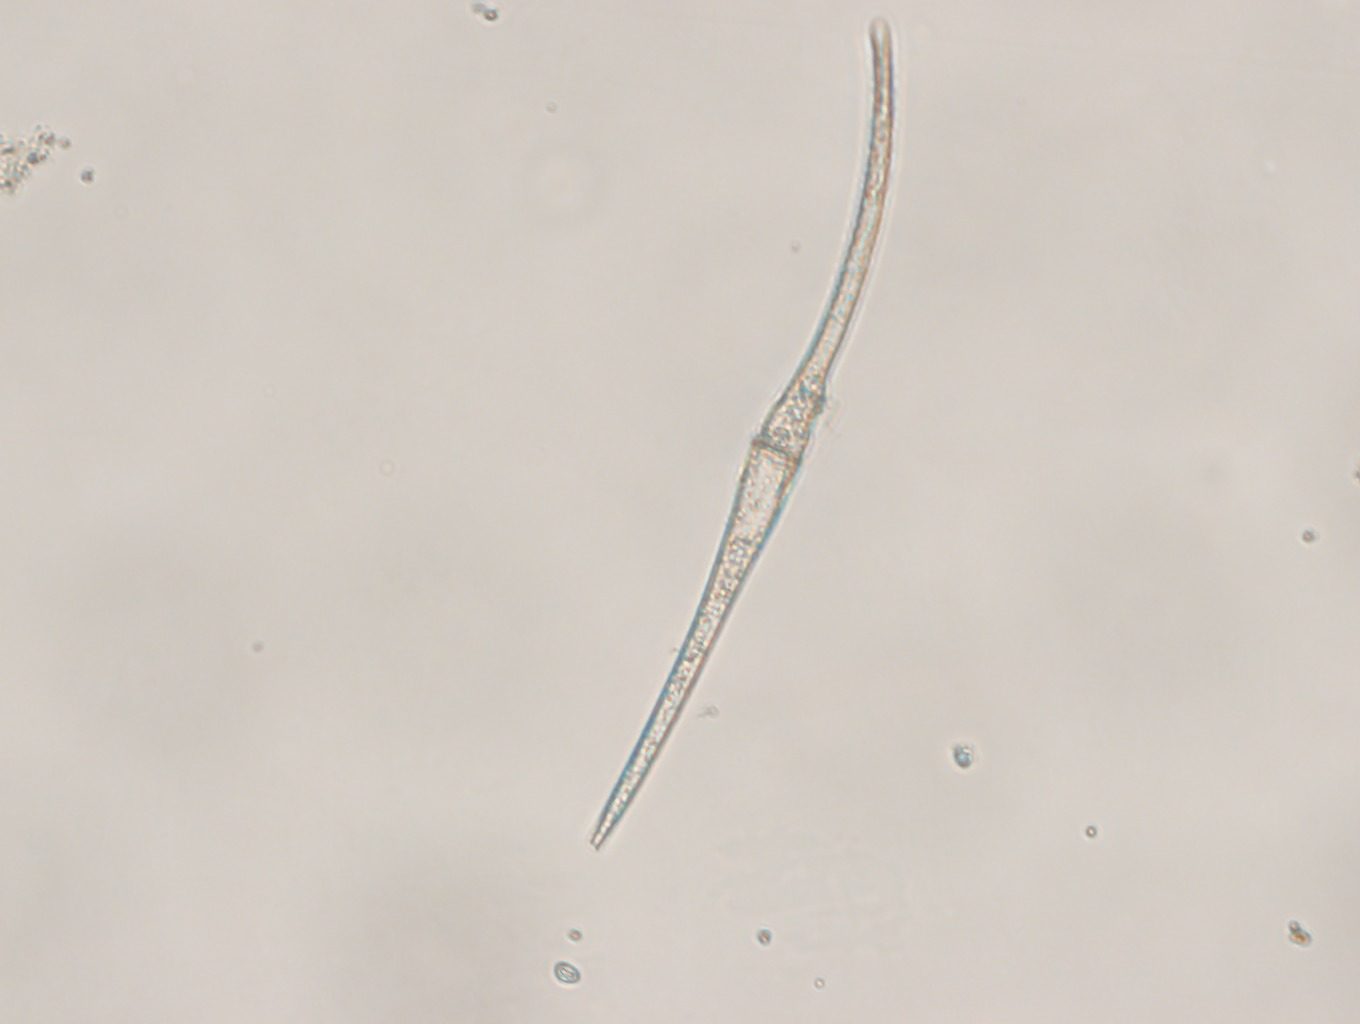ceratium fusus: (588, 15, 898, 861)
